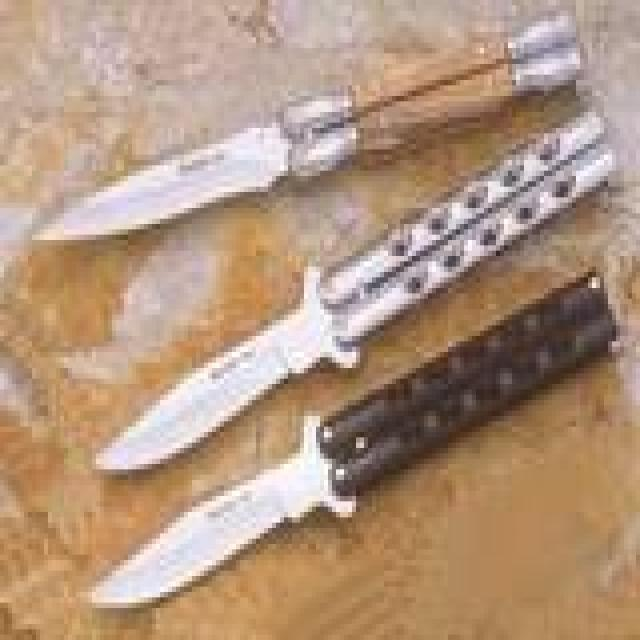Knife: (21, 3, 618, 620)
